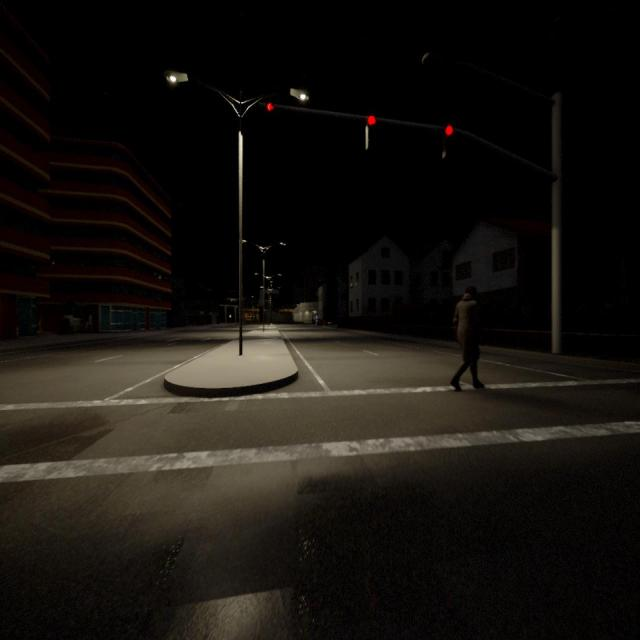Pedestrian: (452, 286, 484, 391)
traffic_light: (444, 125, 453, 157), (366, 116, 375, 146), (267, 103, 274, 112)
